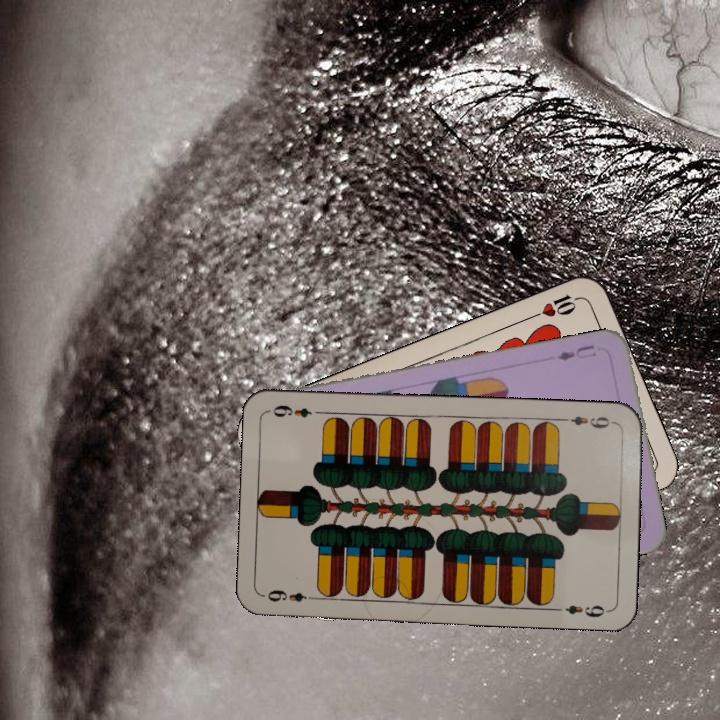E9: (558, 411, 617, 431), (263, 585, 320, 604)
EU: (553, 340, 599, 363)
H10: (528, 290, 585, 322)
